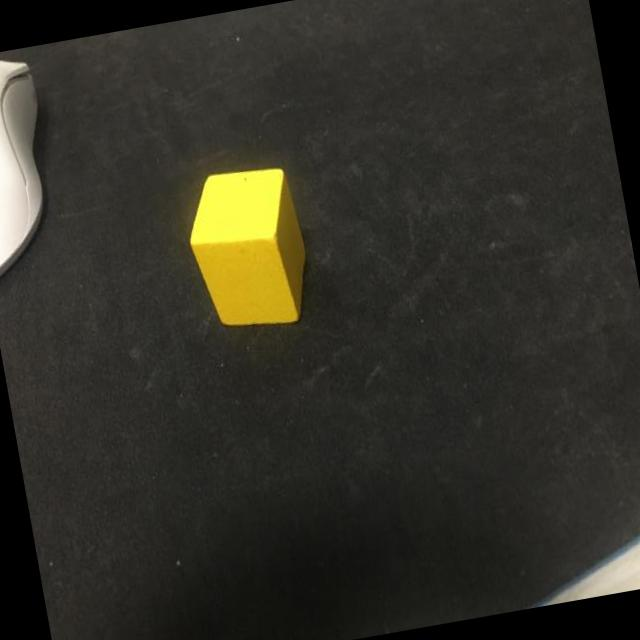yellow: (179, 159, 320, 339)
